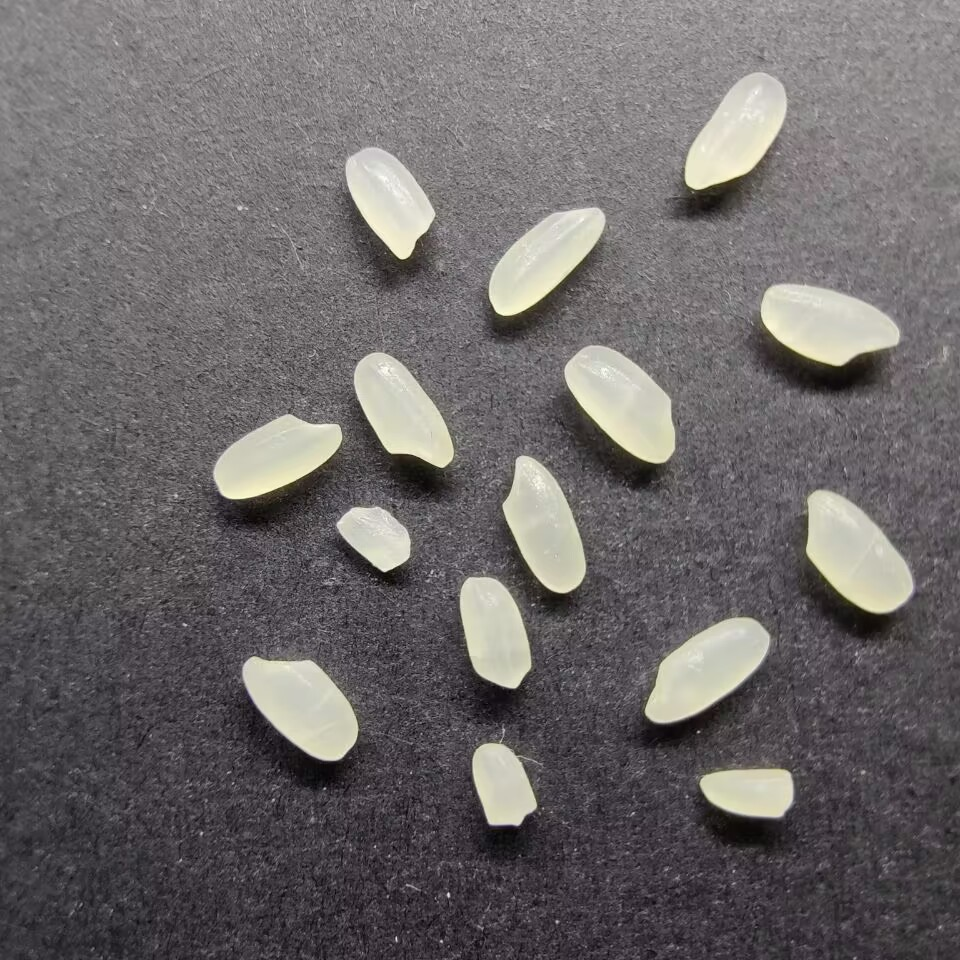broken: (468, 739, 538, 828), (335, 501, 412, 576), (698, 765, 798, 820)
rice: (561, 342, 679, 466), (803, 488, 916, 615), (641, 615, 772, 724), (238, 653, 360, 765), (486, 204, 606, 317), (681, 70, 789, 190), (499, 451, 587, 595), (759, 281, 903, 367), (351, 351, 455, 469), (210, 413, 344, 501), (343, 143, 436, 262), (458, 574, 532, 692)
